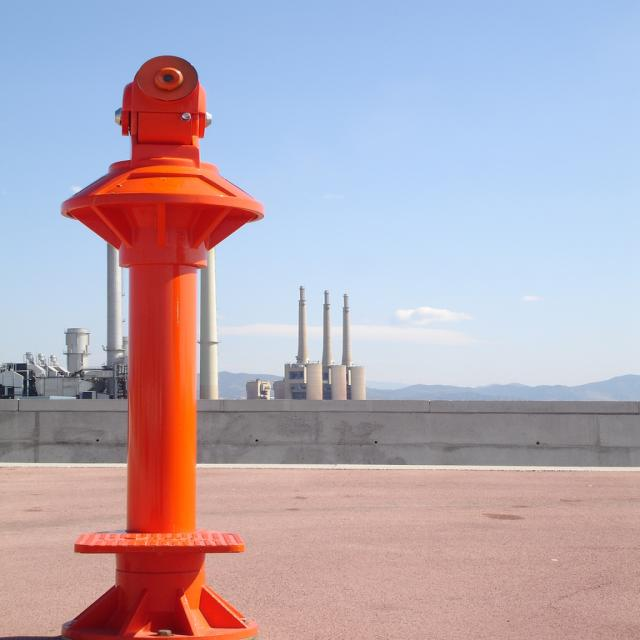fire_hydrant: (59, 56, 266, 640)
